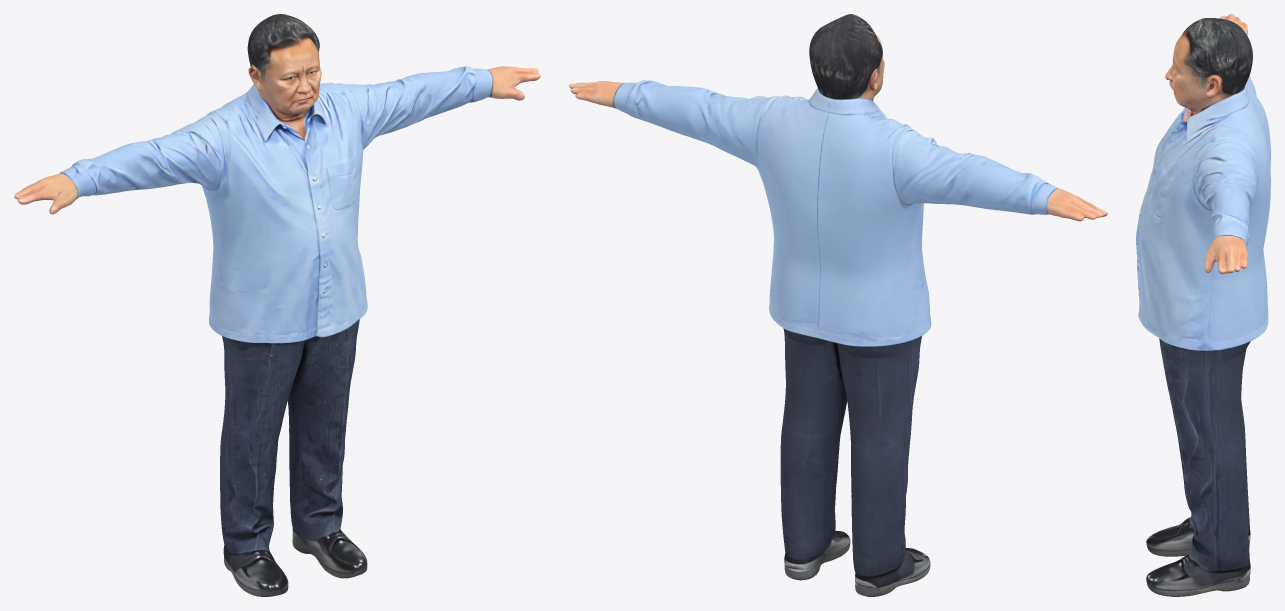
The model's file is wowok-boss.glb.
The picture shows the model from 3 angles, left to right: view 1: azimuth 30°, elevation 25°; view 2: azimuth 150°, elevation 25°; view 3: azimuth 270°, elevation 25°; orthographic projection. The views are drawn at different scales.
Parts seen in each view (by area): view 1: model; view 2: model; view 3: model.
Part boxes in pixels (box(x1,y1,x2,y2)): model: box(14, 14, 540, 596); model: box(569, 14, 1107, 596); model: box(1136, 14, 1270, 596).
Bounding box in the file's own units: 1.89 × 1.89 × 0.4199.
Materials: 1 (1 with a texture image).
